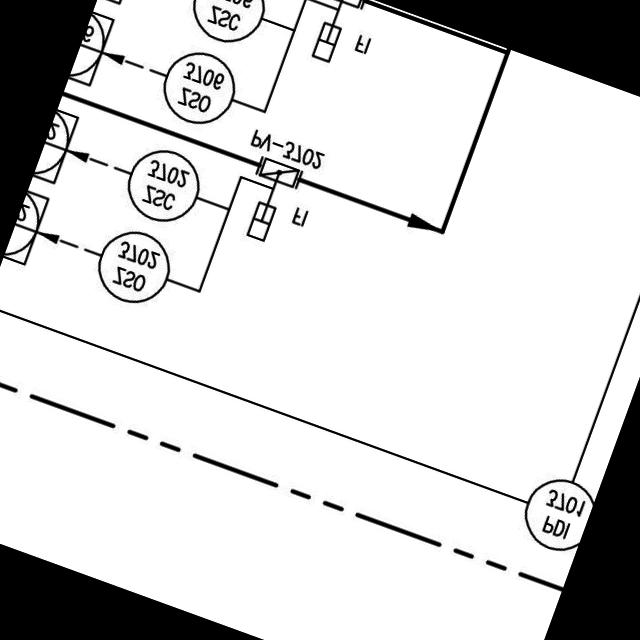BVWA: (228, 150, 311, 254), (293, 0, 371, 74)
